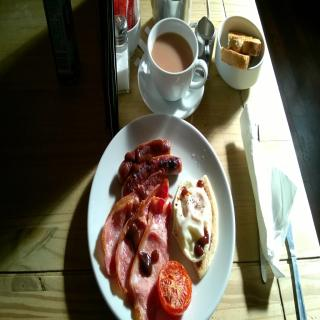tomato: (157, 262, 192, 316)
